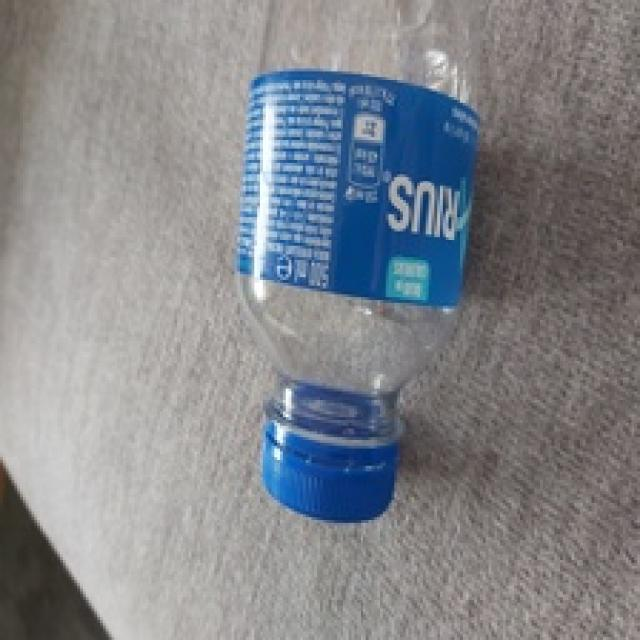Plastic: (232, 0, 480, 518)
